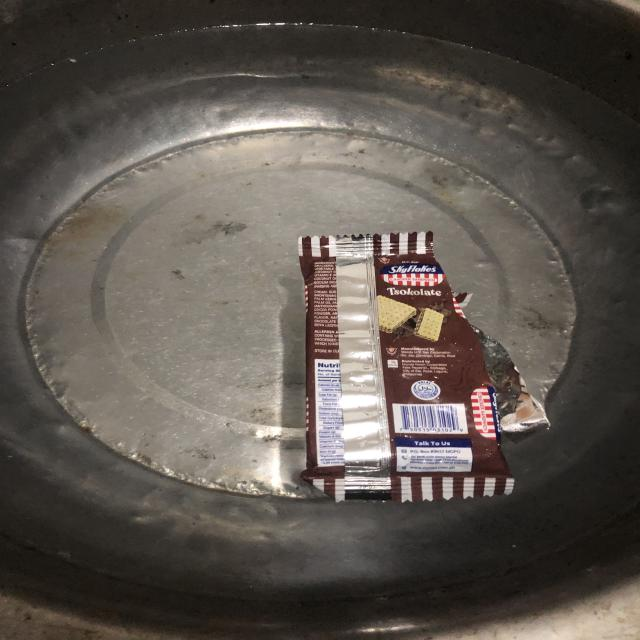Plastic Wrapper: (269, 222, 546, 502)
